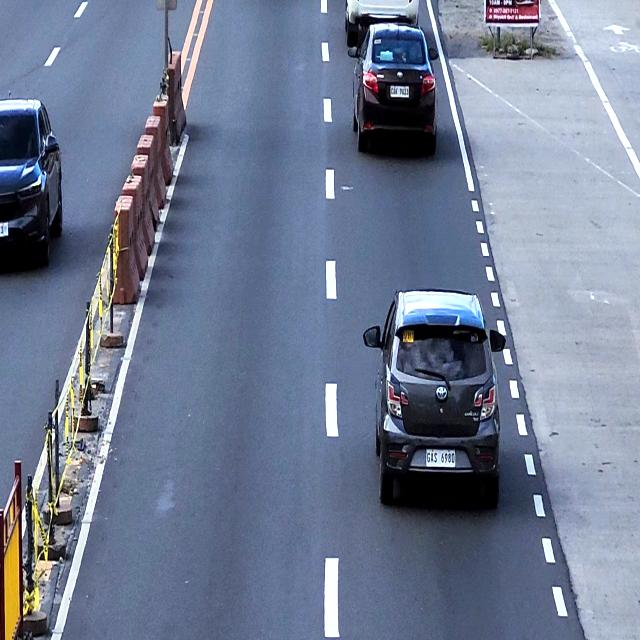Car: (363, 287, 506, 506), (347, 21, 439, 155), (0, 94, 63, 266), (344, 0, 420, 46)
License-Plate: (425, 447, 456, 467), (389, 85, 409, 99), (0, 223, 9, 238)
